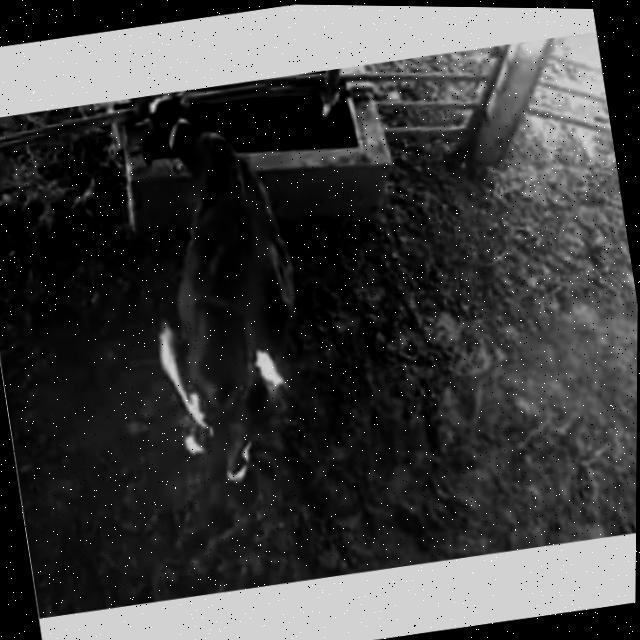drink: (115, 78, 271, 207)
